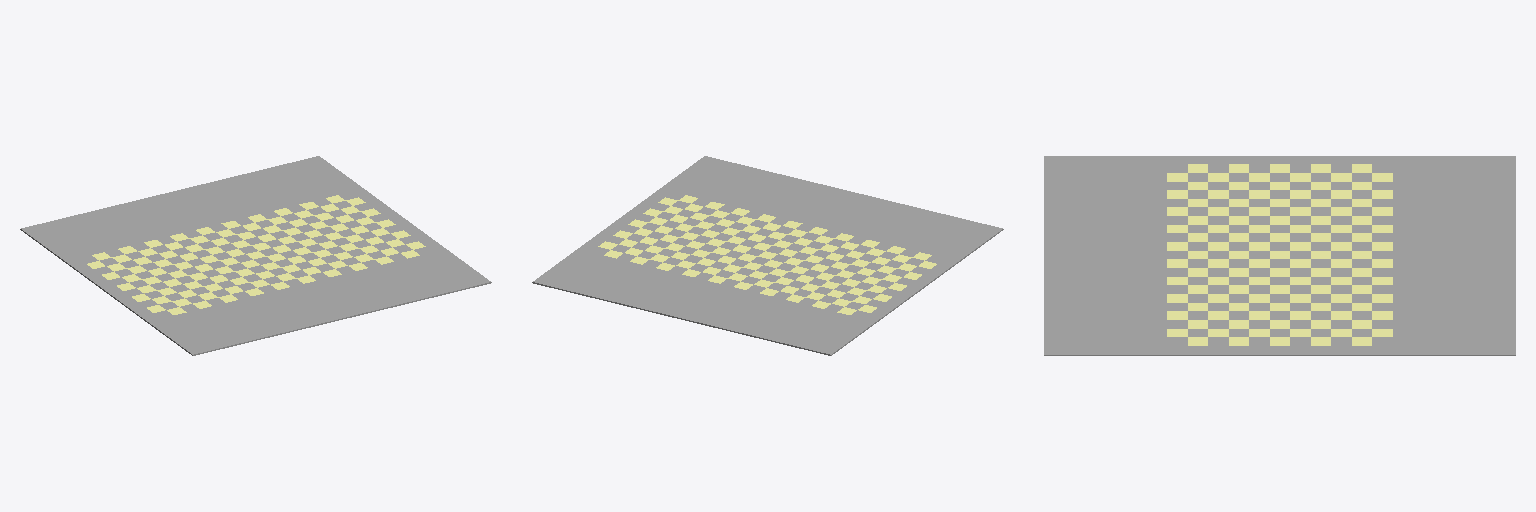
--- Facts derived from the render (not from the file) ---
3 views of the same robot in one strip: view 1: azimuth 30°, elevation 25°; view 2: azimuth 150°, elevation 25°; view 3: azimuth 270°, elevation 25° (orthographic).
Robot: ground_skeleton — 2 links, 1 joints (1 fixed); root link world; default pose: every joint at zero.
Visible links, largest first — view 1: ground_link; view 2: ground_link; view 3: ground_link.
Link boxes in pixels (<box>): ground_link: <box>20,156,491,355</box>; ground_link: <box>532,156,1003,355</box>; ground_link: <box>1044,156,1515,355</box>.
Size in the robot's own frame: 11.5 by 11.5 by 0.0501 metres.
Geometry: primitives only (box / cylinder / sphere), no mesh files.

The robot description file, URDF, robot "ground_skeleton":
<?xml version="1.0"?>
<robot name="ground_skeleton">
    <link name="world" />
    <link name="ground_link">
        <inertial>
            <mass value="1.0" />
            <origin xyz="0 0 0" rpy="1.57079632679 0 0" />
            <inertia ixx="1.0" ixy="0" ixz="0" iyy="1.0" iyz="0" izz="1.0" />
        </inertial>

        <visual>             
            <origin xyz="-5 0 0" rpy="1.57079632679 0 0" />
            <material name="red"><color rgba="0.99 0.99 0.7 1"/></material>
            <geometry>
                <box size="0.5 0.0501 0.5" />
                <color rgba="0.99 0.99 0.7 1"/> 
            </geometry>
        </visual>
        <visual>             
            <origin xyz="-4 0 0" rpy="1.57079632679 0 0" />
            <material name="red"><color rgba="0.99 0.99 0.7 1"/></material>
            <geometry>
                <box size="0.5 0.0501 0.5" />
                <color rgba="0.99 0.99 0.7 1"/> 
            </geometry>
        </visual>
        <visual>             
            <origin xyz="-3 0 0" rpy="1.57079632679 0 0" />
            <material name="red"><color rgba="0.99 0.99 0.7 1"/></material>
            <geometry>
                <box size="0.5 0.0501 0.5" />
                <color rgba="0.99 0.99 0.7 1"/> 
            </geometry>
        </visual>
        <visual>             
            <origin xyz="-2 0 0" rpy="1.57079632679 0 0" />
            <material name="red"><color rgba="0.99 0.99 0.7 1"/></material>
            <geometry>
                <box size="0.5 0.0501 0.5" />
                <color rgba="0.99 0.99 0.7 1"/> 
            </geometry>
        </visual>

        <visual>             
            <origin xyz="-1 0 0" rpy="1.57079632679 0 0" />
            <material name="red"><color rgba="0.99 0.99 0.7 1"/></material>
            <geometry>
                <box size="0.5 0.0501 0.5" />
                <color rgba="0.99 0.99 0.7 1"/> 
            </geometry>
     
        </visual>  
        <visual>             
            <origin xyz="0 0 0" rpy="1.57079632679 0 0" />
            <material name="red"><color rgba="0.99 0.99 0.7 1"/></material>
            <geometry>
                <box size="0.5 0.0501 0.5" />
                <color rgba="0.99 0.99 0.7 1"/> 
            </geometry>
     
        </visual>
        <visual>             
            <origin xyz="1 0 0" rpy="1.57079632679 0 0" />
            <material name="red"><color rgba="0.99 0.99 0.7 1"/></material>
            <geometry>
                <box size="0.5 0.0501 0.5" />
                <color rgba="0.99 0.99 0.7 1"/> 
            </geometry>
     
        </visual>
        <visual>             
            <origin xyz="2 0 0" rpy="1.57079632679 0 0" />
            <material name="red"><color rgba="0.99 0.99 0.7 1"/></material>
            <geometry>
                <box size="0.5 0.0501 0.5" />
                <color rgba="0.99 0.99 0.7 1"/> 
            </geometry>
     
        </visual>
        <visual>             
            <origin xyz="3 0 0" rpy="1.57079632679 0 0" />
            <material name="red"><color rgba="0.99 0.99 0.7 1"/></material>
            <geometry>
                <box size="0.5 0.0501 0.5" />
                <color rgba="0.99 0.99 0.7 1"/> 
            </geometry>
     
        </visual>
        <visual>             
            <origin xyz="4 0 0" rpy="1.57079632679 0 0" />
            <material name="red"><color rgba="0.99 0.99 0.7 1"/></material>
            <geometry>
                <box size="0.5 0.0501 0.5" />
                <color rgba="0.99 0.99 0.7 1"/> 
            </geometry>
     
        </visual>



        <visual>             
            <origin xyz="0.5 0.5 0" rpy="1.57079632679 0 0" />
            <material name="red"><color rgba="0.99 0.99 0.7 1"/></material>
            <geometry>
                <box size="0.5 0.0501 0.5" />
                <color rgba="0.99 0.99 0.7 1"/> 
            </geometry>
     
        </visual>
        <visual>             
            <origin xyz="1.5 0.5 0" rpy="1.57079632679 0 0" />
            <material name="red"><color rgba="0.99 0.99 0.7 1"/></material>
            <geometry>
                <box size="0.5 0.0501 0.5" />
                <color rgba="0.99 0.99 0.7 1"/> 
            </geometry>
     
        </visual>
        <visual>             
            <origin xyz="2.5 0.5 0" rpy="1.57079632679 0 0" />
            <material name="red"><color rgba="0.99 0.99 0.7 1"/></material>
            <geometry>
                <box size="0.5 0.0501 0.5" />
                <color rgba="0.99 0.99 0.7 1"/> 
            </geometry>
     
        </visual>
        <visual>             
            <origin xyz="3.5 0.5 0" rpy="1.57079632679 0 0" />
            <material name="red"><color rgba="0.99 0.99 0.7 1"/></material>
            <geometry>
                <box size="0.5 0.0501 0.5" />
                <color rgba="0.99 0.99 0.7 1"/> 
            </geometry>
        </visual>
        <visual>             
            <origin xyz="4.5 0.5 0" rpy="1.57079632679 0 0" />
            <material name="red"><color rgba="0.99 0.99 0.7 1"/></material>
            <geometry>
                <box size="0.5 0.0501 0.5" />
                <color rgba="0.99 0.99 0.7 1"/> 
            </geometry>
        </visual>








        <visual>             
            <origin xyz="0.5 -0.5 0" rpy="1.57079632679 0 0" />
            <material name="red"><color rgba="0.99 0.99 0.7 1"/></material>
            <geometry>
                <box size="0.5 0.0501 0.5" />
                <color rgba="0.99 0.99 0.7 1"/> 
            </geometry>
     
        </visual>
        <visual>             
            <origin xyz="1.5 -0.5 0" rpy="1.57079632679 0 0" />
            <material name="red"><color rgba="0.99 0.99 0.7 1"/></material>
            <geometry>
                <box size="0.5 0.0501 0.5" />
                <color rgba="0.99 0.99 0.7 1"/> 
            </geometry>
     
        </visual>
        <visual>             
            <origin xyz="2.5 -0.5 0" rpy="1.57079632679 0 0" />
            <material name="red"><color rgba="0.99 0.99 0.7 1"/></material>
            <geometry>
                <box size="0.5 0.0501 0.5" />
                <color rgba="0.99 0.99 0.7 1"/> 
            </geometry>
        </visual>   
        <visual>             
            <origin xyz="3.5 -0.5 0" rpy="1.57079632679 0 0" />
            <material name="red"><color rgba="0.99 0.99 0.7 1"/></material>
            <geometry>
                <box size="0.5 0.0501 0.5" />
                <color rgba="0.99 0.99 0.7 1"/> 
            </geometry>
        </visual>
        <visual>             
            <origin xyz="4.5 -0.5 0" rpy="1.57079632679 0 0" />
            <material name="red"><color rgba="0.99 0.99 0.7 1"/></material>
            <geometry>
                <box size="0.5 0.0501 0.5" />
                <color rgba="0.99 0.99 0.7 1"/> 
            </geometry>
        </visual>









        <visual>             
            <origin xyz="-5.5 0.5 0" rpy="1.57079632679 0 0" />
            <material name="red"><color rgba="0.99 0.99 0.7 1"/></material>
            <geometry>
                <box size="0.5 0.0501 0.5" />
                <color rgba="0.99 0.99 0.7 1"/> 
            </geometry>
        </visual>
        <visual>             
            <origin xyz="-4.5 0.5 0" rpy="1.57079632679 0 0" />
            <material name="red"><color rgba="0.99 0.99 0.7 1"/></material>
            <geometry>
                <box size="0.5 0.0501 0.5" />
                <color rgba="0.99 0.99 0.7 1"/> 
            </geometry>
        </visual>
        <visual>             
            <origin xyz="-3.5 0.5 0" rpy="1.57079632679 0 0" />
            <material name="red"><color rgba="0.99 0.99 0.7 1"/></material>
            <geometry>
                <box size="0.5 0.0501 0.5" />
                <color rgba="0.99 0.99 0.7 1"/> 
            </geometry>
        </visual>
        <visual>             
            <origin xyz="-2.5 0.5 0" rpy="1.57079632679 0 0" />
            <material name="red"><color rgba="0.99 0.99 0.7 1"/></material>
            <geometry>
                <box size="0.5 0.0501 0.5" />
                <color rgba="0.99 0.99 0.7 1"/> 
            </geometry>
        </visual>
        <visual>             
            <origin xyz="-1.5 0.5 0" rpy="1.57079632679 0 0" />
            <material name="red"><color rgba="0.99 0.99 0.7 1"/></material>
            <geometry>
                <box size="0.5 0.0501 0.5" />
                <color rgba="0.99 0.99 0.7 1"/> 
            </geometry>
        </visual>

        <visual>             
            <origin xyz="-0.5 0.5 0" rpy="1.57079632679 0 0" />
            <material name="red"><color rgba="0.99 0.99 0.7 1"/></material>
            <geometry>
                <box size="0.5 0.0501 0.5" />
                <color rgba="0.99 0.99 0.7 1"/> 
            </geometry>
     
        </visual> 














         <visual>
           <origin xyz="-5.5 -0.5 0" rpy="1.57079632679 0 0" />
            <material name="red"><color rgba="0.99 0.99 0.7 1"/></material>
            <geometry>
                <box size="0.5 0.0501 0.5" />
                <color rgba="0.99 0.99 0.7 1"/> 
            </geometry>
        </visual>
         <visual>
           <origin xyz="-4.5 -0.5 0" rpy="1.57079632679 0 0" />
            <material name="red"><color rgba="0.99 0.99 0.7 1"/></material>
            <geometry>
                <box size="0.5 0.0501 0.5" />
                <color rgba="0.99 0.99 0.7 1"/> 
            </geometry>
        </visual>
        <visual>             
            <origin xyz="-3.5 -0.5 0" rpy="1.57079632679 0 0" />
            <material name="red"><color rgba="0.99 0.99 0.7 1"/></material>
            <geometry>
                <box size="0.5 0.0501 0.5" />
                <color rgba="0.99 0.99 0.7 1"/> 
            </geometry>
        </visual>
        <visual>             
            <origin xyz="-2.5 -0.5 0" rpy="1.57079632679 0 0" />
            <material name="red"><color rgba="0.99 0.99 0.7 1"/></material>
            <geometry>
                <box size="0.5 0.0501 0.5" />
                <color rgba="0.99 0.99 0.7 1"/> 
            </geometry>
        </visual>
        <visual>             
            <origin xyz="-1.5 -0.5 0" rpy="1.57079632679 0 0" />
            <material name="red"><color rgba="0.99 0.99 0.7 1"/></material>
            <geometry>
                <box size="0.5 0.0501 0.5" />
                <color rgba="0.99 0.99 0.7 1"/> 
            </geometry>
        </visual>

        <visual>             
            <origin xyz="-0.5 -0.5 0" rpy="1.57079632679 0 0" />
            <material name="red"><color rgba="0.99 0.99 0.7 1"/></material>
            <geometry>
                <box size="0.5 0.0501 0.5" />
                <color rgba="0.99 0.99 0.7 1"/> 
            </geometry>
     
        </visual> 











       <visual>             
            <origin xyz="-5 1.0 0" rpy="1.57079632679 0 0" />
            <material name="red"><color rgba="0.99 0.99 0.7 1"/></material>
            <geometry>
                <box size="0.5 0.0501 0.5" />
                <color rgba="0.99 0.99 0.7 1"/> 
            </geometry>
        </visual>
        <visual>             
            <origin xyz="-4 1 0" rpy="1.57079632679 0 0" />
            <material name="red"><color rgba="0.99 0.99 0.7 1"/></material>
            <geometry>
                <box size="0.5 0.0501 0.5" />
                <color rgba="0.99 0.99 0.7 1"/> 
            </geometry>
        </visual>
        <visual>             
            <origin xyz="-3 1 0" rpy="1.57079632679 0 0" />
            <material name="red"><color rgba="0.99 0.99 0.7 1"/></material>
            <geometry>
                <box size="0.5 0.0501 0.5" />
                <color rgba="0.99 0.99 0.7 1"/> 
            </geometry>
        </visual>
        <visual>             
            <origin xyz="-2 1 0" rpy="1.57079632679 0 0" />
            <material name="red"><color rgba="0.99 0.99 0.7 1"/></material>
            <geometry>
                <box size="0.5 0.0501 0.5" />
                <color rgba="0.99 0.99 0.7 1"/> 
            </geometry>
        </visual>

        <visual>             
            <origin xyz="-1 1 0" rpy="1.57079632679 0 0" />
            <material name="red"><color rgba="0.99 0.99 0.7 1"/></material>
            <geometry>
                <box size="0.5 0.0501 0.5" />
                <color rgba="0.99 0.99 0.7 1"/> 
            </geometry>
     
        </visual>  
        <visual>             
            <origin xyz="0 1 0" rpy="1.57079632679 0 0" />
            <material name="red"><color rgba="0.99 0.99 0.7 1"/></material>
            <geometry>
                <box size="0.5 0.0501 0.5" />
                <color rgba="0.99 0.99 0.7 1"/> 
            </geometry>
     
        </visual>
        <visual>             
            <origin xyz="1 1 0" rpy="1.57079632679 0 0" />
            <material name="red"><color rgba="0.99 0.99 0.7 1"/></material>
            <geometry>
                <box size="0.5 0.0501 0.5" />
                <color rgba="0.99 0.99 0.7 1"/> 
            </geometry>
     
        </visual>
        <visual>             
            <origin xyz="2 1 0" rpy="1.57079632679 0 0" />
            <material name="red"><color rgba="0.99 0.99 0.7 1"/></material>
            <geometry>
                <box size="0.5 0.0501 0.5" />
                <color rgba="0.99 0.99 0.7 1"/> 
            </geometry>
     
        </visual>
        <visual>             
            <origin xyz="3 1 0" rpy="1.57079632679 0 0" />
            <material name="red"><color rgba="0.99 0.99 0.7 1"/></material>
            <geometry>
                <box size="0.5 0.0501 0.5" />
                <color rgba="0.99 0.99 0.7 1"/> 
            </geometry>
     
        </visual>
        <visual>             
            <origin xyz="4 1 0" rpy="1.57079632679 0 0" />
            <material name="red"><color rgba="0.99 0.99 0.7 1"/></material>
            <geometry>
                <box size="0.5 0.0501 0.5" />
                <color rgba="0.99 0.99 0.7 1"/> 
            </geometry>
     
        </visual>













       <visual>             
            <origin xyz="-5.5 1.5 0" rpy="1.57079632679 0 0" />
            <material name="red"><color rgba="0.99 0.99 0.7 1"/></material>
            <geometry>
                <box size="0.5 0.0501 0.5" />
                <color rgba="0.99 0.99 0.7 1"/> 
            </geometry>
        </visual>
        <visual>             
            <origin xyz="-4.5 1.5 0" rpy="1.57079632679 0 0" />
            <material name="red"><color rgba="0.99 0.99 0.7 1"/></material>
            <geometry>
                <box size="0.5 0.0501 0.5" />
                <color rgba="0.99 0.99 0.7 1"/> 
            </geometry>
        </visual>
        <visual>             
            <origin xyz="-3.5 1.5 0" rpy="1.57079632679 0 0" />
            <material name="red"><color rgba="0.99 0.99 0.7 1"/></material>
            <geometry>
                <box size="0.5 0.0501 0.5" />
                <color rgba="0.99 0.99 0.7 1"/> 
            </geometry>
        </visual>
        <visual>             
            <origin xyz="-2.5 1.5 0" rpy="1.57079632679 0 0" />
            <material name="red"><color rgba="0.99 0.99 0.7 1"/></material>
            <geometry>
                <box size="0.5 0.0501 0.5" />
                <color rgba="0.99 0.99 0.7 1"/> 
            </geometry>
        </visual>

        <visual>             
            <origin xyz="-1.5 1.5 0" rpy="1.57079632679 0 0" />
            <material name="red"><color rgba="0.99 0.99 0.7 1"/></material>
            <geometry>
                <box size="0.5 0.0501 0.5" />
                <color rgba="0.99 0.99 0.7 1"/> 
            </geometry>
     
        </visual> 
        <visual>             
            <origin xyz="-0.5 1.5 0" rpy="1.57079632679 0 0" />
            <material name="red"><color rgba="0.99 0.99 0.7 1"/></material>
            <geometry>
                <box size="0.5 0.0501 0.5" />
                <color rgba="0.99 0.99 0.7 1"/> 
            </geometry>
     
        </visual> 
        <visual>             
            <origin xyz="0.5 1.5 0" rpy="1.57079632679 0 0" />
            <material name="red"><color rgba="0.99 0.99 0.7 1"/></material>
            <geometry>
                <box size="0.5 0.0501 0.5" />
                <color rgba="0.99 0.99 0.7 1"/> 
            </geometry>
     
        </visual>
        <visual>             
            <origin xyz="1.5 1.5 0" rpy="1.57079632679 0 0" />
            <material name="red"><color rgba="0.99 0.99 0.7 1"/></material>
            <geometry>
                <box size="0.5 0.0501 0.5" />
                <color rgba="0.99 0.99 0.7 1"/> 
            </geometry>
     
        </visual>
        <visual>             
            <origin xyz="2.5 1.5 0" rpy="1.57079632679 0 0" />
            <material name="red"><color rgba="0.99 0.99 0.7 1"/></material>
            <geometry>
                <box size="0.5 0.0501 0.5" />
                <color rgba="0.99 0.99 0.7 1"/> 
            </geometry>
     
        </visual>
        <visual>             
            <origin xyz="3.5 1.5 0" rpy="1.57079632679 0 0" />
            <material name="red"><color rgba="0.99 0.99 0.7 1"/></material>
            <geometry>
                <box size="0.5 0.0501 0.5" />
                <color rgba="0.99 0.99 0.7 1"/> 
            </geometry>
     
        </visual>
        <visual>             
            <origin xyz="4.5 1.5 0" rpy="1.57079632679 0 0" />
            <material name="red"><color rgba="0.99 0.99 0.7 1"/></material>
            <geometry>
                <box size="0.5 0.0501 0.5" />
                <color rgba="0.99 0.99 0.7 1"/> 
            </geometry>
     
        </visual>

















       <visual>             
            <origin xyz="-5 -1.0 0" rpy="1.57079632679 0 0" />
            <material name="red"><color rgba="0.99 0.99 0.7 1"/></material>
            <geometry>
                <box size="0.5 0.0501 0.5" />
                <color rgba="0.99 0.99 0.7 1"/> 
            </geometry>
        </visual>
        <visual>             
            <origin xyz="-4 -1 0" rpy="1.57079632679 0 0" />
            <material name="red"><color rgba="0.99 0.99 0.7 1"/></material>
            <geometry>
                <box size="0.5 0.0501 0.5" />
                <color rgba="0.99 0.99 0.7 1"/> 
            </geometry>
        </visual>
        <visual>             
            <origin xyz="-3 -1 0" rpy="1.57079632679 0 0" />
            <material name="red"><color rgba="0.99 0.99 0.7 1"/></material>
            <geometry>
                <box size="0.5 0.0501 0.5" />
                <color rgba="0.99 0.99 0.7 1"/> 
            </geometry>
        </visual>
        <visual>             
            <origin xyz="-2 -1 0" rpy="1.57079632679 0 0" />
            <material name="red"><color rgba="0.99 0.99 0.7 1"/></material>
            <geometry>
                <box size="0.5 0.0501 0.5" />
                <color rgba="0.99 0.99 0.7 1"/> 
            </geometry>
        </visual>

        <visual>             
            <origin xyz="-1 -1 0" rpy="1.57079632679 0 0" />
            <material name="red"><color rgba="0.99 0.99 0.7 1"/></material>
            <geometry>
                <box size="0.5 0.0501 0.5" />
                <color rgba="0.99 0.99 0.7 1"/> 
            </geometry>
     
        </visual>  
        <visual>             
            <origin xyz="0 -1 0" rpy="1.57079632679 0 0" />
            <material name="red"><color rgba="0.99 0.99 0.7 1"/></material>
            <geometry>
                <box size="0.5 0.0501 0.5" />
                <color rgba="0.99 0.99 0.7 1"/> 
            </geometry>
     
        </visual>
        <visual>             
            <origin xyz="1 -1 0" rpy="1.57079632679 0 0" />
            <material name="red"><color rgba="0.99 0.99 0.7 1"/></material>
            <geometry>
                <box size="0.5 0.0501 0.5" />
                <color rgba="0.99 0.99 0.7 1"/> 
            </geometry>
     
        </visual>
        <visual>             
            <origin xyz="2 -1 0" rpy="1.57079632679 0 0" />
            <material name="red"><color rgba="0.99 0.99 0.7 1"/></material>
            <geometry>
                <box size="0.5 0.0501 0.5" />
                <color rgba="0.99 0.99 0.7 1"/> 
            </geometry>
     
        </visual>
        <visual>             
            <origin xyz="3 -1 0" rpy="1.57079632679 0 0" />
            <material name="red"><color rgba="0.99 0.99 0.7 1"/></material>
            <geometry>
                <box size="0.5 0.0501 0.5" />
                <color rgba="0.99 0.99 0.7 1"/> 
            </geometry>
     
        </visual>
        <visual>             
            <origin xyz="4 -1 0" rpy="1.57079632679 0 0" />
            <material name="red"><color rgba="0.99 0.99 0.7 1"/></material>
            <geometry>
                <box size="0.5 0.0501 0.5" />
                <color rgba="0.99 0.99 0.7 1"/> 
            </geometry>
     
        </visual>













       <visual>             
            <origin xyz="-5.5 -1.5 0" rpy="1.57079632679 0 0" />
            <material name="red"><color rgba="0.99 0.99 0.7 1"/></material>
            <geometry>
                <box size="0.5 0.0501 0.5" />
                <color rgba="0.99 0.99 0.7 1"/> 
            </geometry>
        </visual>
        <visual>             
            <origin xyz="-4.5 -1.5 0" rpy="1.57079632679 0 0" />
            <material name="red"><color rgba="0.99 0.99 0.7 1"/></material>
            <geometry>
                <box size="0.5 0.0501 0.5" />
                <color rgba="0.99 0.99 0.7 1"/> 
            </geometry>
        </visual>
        <visual>             
            <origin xyz="-3.5 -1.5 0" rpy="1.57079632679 0 0" />
            <material name="red"><color rgba="0.99 0.99 0.7 1"/></material>
            <geometry>
                <box size="0.5 0.0501 0.5" />
                <color rgba="0.99 0.99 0.7 1"/> 
            </geometry>
        </visual>
        <visual>             
            <origin xyz="-2.5 -1.5 0" rpy="1.57079632679 0 0" />
            <material name="red"><color rgba="0.99 0.99 0.7 1"/></material>
            <geometry>
                <box size="0.5 0.0501 0.5" />
                <color rgba="0.99 0.99 0.7 1"/> 
            </geometry>
        </visual>

        <visual>             
            <origin xyz="-1.5 -1.5 0" rpy="1.57079632679 0 0" />
            <material name="red"><color rgba="0.99 0.99 0.7 1"/></material>
            <geometry>
                <box size="0.5 0.0501 0.5" />
                <color rgba="0.99 0.99 0.7 1"/> 
            </geometry>
     
        </visual> 
        <visual>             
            <origin xyz="-0.5 -1.5 0" rpy="1.57079632679 0 0" />
            <material name="red"><color rgba="0.99 0.99 0.7 1"/></material>
            <geometry>
                <box size="0.5 0.0501 0.5" />
                <color rgba="0.99 0.99 0.7 1"/> 
            </geometry>
     
        </visual> 
        <visual>             
            <origin xyz="0.5 -1.5 0" rpy="1.57079632679 0 0" />
            <material name="red"><color rgba="0.99 0.99 0.7 1"/></material>
            <geometry>
                <box size="0.5 0.0501 0.5" />
                <color rgba="0.99 0.99 0.7 1"/> 
            </geometry>
        </visual>
        <visual>             
            <origin xyz="1.5 -1.5 0" rpy="1.57079632679 0 0" />
            <material name="red"><color rgba="0.99 0.99 0.7 1"/></material>
            <geometry>
                <box size="0.5 0.0501 0.5" />
                <color rgba="0.99 0.99 0.7 1"/> 
            </geometry>
     
        </visual>
        <visual>             
            <origin xyz="2.5 -1.5 0" rpy="1.57079632679 0 0" />
            <material name="red"><color rgba="0.99 0.99 0.7 1"/></material>
            <geometry>
                <box size="0.5 0.0501 0.5" />
                <color rgba="0.99 0.99 0.7 1"/> 
            </geometry>
     
        </visual>
        <visual>             
            <origin xyz="3.5 -1.5 0" rpy="1.57079632679 0 0" />
            <material name="red"><color rgba="0.99 0.99 0.7 1"/></material>
            <geometry>
                <box size="0.5 0.0501 0.5" />
                <color rgba="0.99 0.99 0.7 1"/> 
            </geometry>
     
        </visual>
        <visual>             
            <origin xyz="4.5 -1.5 0" rpy="1.57079632679 0 0" />
            <material name="red"><color rgba="0.99 0.99 0.7 1"/></material>
            <geometry>
                <box size="0.5 0.0501 0.5" />
                <color rgba="0.99 0.99 0.7 1"/> 
            </geometry>
     
        </visual>














       <visual>             
            <origin xyz="-5 -2.0 0" rpy="1.57079632679 0 0" />
            <material name="red"><color rgba="0.99 0.99 0.7 1"/></material>
            <geometry>
                <box size="0.5 0.0501 0.5" />
                <color rgba="0.99 0.99 0.7 1"/> 
            </geometry>
        </visual>
        <visual>             
            <origin xyz="-4 -2 0" rpy="1.57079632679 0 0" />
            <material name="red"><color rgba="0.99 0.99 0.7 1"/></material>
            <geometry>
                <box size="0.5 0.0501 0.5" />
                <color rgba="0.99 0.99 0.7 1"/> 
            </geometry>
        </visual>
        <visual>             
            <origin xyz="-3 -2 0" rpy="1.57079632679 0 0" />
            <material name="red"><color rgba="0.99 0.99 0.7 1"/></material>
            <geometry>
                <box size="0.5 0.0501 0.5" />
                <color rgba="0.99 0.99 0.7 1"/> 
            </geometry>
        </visual>
        <visual>             
            <origin xyz="-2 -2 0" rpy="1.57079632679 0 0" />
            <material name="red"><color rgba="0.99 0.99 0.7 1"/></material>
            <geometry>
                <box size="0.5 0.0501 0.5" />
                <color rgba="0.99 0.99 0.7 1"/> 
            </geometry>
        </visual>

        <visual>             
            <origin xyz="-1 -2 0" rpy="1.57079632679 0 0" />
            <material name="red"><color rgba="0.99 0.99 0.7 1"/></material>
            <geometry>
                <box size="0.5 0.0501 0.5" />
                <color rgba="0.99 0.99 0.7 1"/> 
            </geometry>
     
        </visual>  
        <visual>             
            <origin xyz="0 -2 0" rpy="1.57079632679 0 0" />
            <material name="red"><color rgba="0.99 0.99 0.7 1"/></material>
            <geometry>
                <box size="0.5 0.0501 0.5" />
                <color rgba="0.99 0.99 0.7 1"/> 
            </geometry>
     
        </visual>
        <visual>             
            <origin xyz="1 -2 0" rpy="1.57079632679 0 0" />
            <material name="red"><color rgba="0.99 0.99 0.7 1"/></material>
            <geometry>
                <box size="0.5 0.0501 0.5" />
                <color rgba="0.99 0.99 0.7 1"/> 
            </geometry>
     
        </visual>
        <visual>             
            <origin xyz="2 -2 0" rpy="1.57079632679 0 0" />
            <material name="red"><color rgba="0.99 0.99 0.7 1"/></material>
            <geometry>
                <box size="0.5 0.0501 0.5" />
                <color rgba="0.99 0.99 0.7 1"/> 
            </geometry>
     
        </visual>
        <visual>             
            <origin xyz="3 -2 0" rpy="1.57079632679 0 0" />
            <material name="red"><color rgba="0.99 0.99 0.7 1"/></material>
            <geometry>
                <box size="0.5 0.0501 0.5" />
                <color rgba="0.99 0.99 0.7 1"/> 
            </geometry>
     
        </visual>
        <visual>             
            <origin xyz="4 -2 0" rpy="1.57079632679 0 0" />
            <material name="red"><color rgba="0.99 0.99 0.7 1"/></material>
            <geometry>
                <box size="0.5 0.0501 0.5" />
                <color rgba="0.99 0.99 0.7 1"/> 
            </geometry>
     
        </visual>













       <visual>             
            <origin xyz="-5.5 -2.5 0" rpy="1.57079632679 0 0" />
            <material name="red"><color rgba="0.99 0.99 0.7 1"/></material>
            <geometry>
                <box size="0.5 0.0501 0.5" />
                <color rgba="0.99 0.99 0.7 1"/> 
            </geometry>
        </visual>
        <visual>             
            <origin xyz="-4.5 -2.5 0" rpy="1.57079632679 0 0" />
            <material name="red"><color rgba="0.99 0.99 0.7 1"/></material>
            <geometry>
                <box size="0.5 0.0501 0.5" />
                <color rgba="0.99 0.99 0.7 1"/> 
            </geometry>
        </visual>
        <visual>             
            <origin xyz="-3.5 -2.5 0" rpy="1.57079632679 0 0" />
            <material name="red"><color rgba="0.99 0.99 0.7 1"/></material>
            <geometry>
                <box size="0.5 0.0501 0.5" />
                <color rgba="0.99 0.99 0.7 1"/> 
            </geometry>
        </visual>
        <visual>             
            <origin xyz="-2.5 -2.5 0" rpy="1.57079632679 0 0" />
            <material name="red"><color rgba="0.99 0.99 0.7 1"/></material>
            <geometry>
                <box size="0.5 0.0501 0.5" />
                <color rgba="0.99 0.99 0.7 1"/> 
            </geometry>
        </visual>

        <visual>             
            <origin xyz="-1.5 -2.5 0" rpy="1.57079632679 0 0" />
            <material name="red"><color rgba="0.99 0.99 0.7 1"/></material>
            <geometry>
                <box size="0.5 0.0501 0.5" />
                <color rgba="0.99 0.99 0.7 1"/> 
            </geometry>
     
        </visual> 
        <visual>             
            <origin xyz="-0.5 -2.5 0" rpy="1.57079632679 0 0" />
            <material name="red"><color rgba="0.99 0.99 0.7 1"/></material>
            <geometry>
                <box size="0.5 0.0501 0.5" />
                <color rgba="0.99 0.99 0.7 1"/> 
            </geometry>
     
        </visual> 
        <visual>             
            <origin xyz="0.5 -2.5 0" rpy="1.57079632679 0 0" />
            <material name="red"><color rgba="0.99 0.99 0.7 1"/></material>
            <geometry>
                <box size="0.5 0.0501 0.5" />
                <color rgba="0.99 0.99 0.7 1"/> 
            </geometry>
        </visual>
        <visual>             
            <origin xyz="1.5 -2.5 0" rpy="1.57079632679 0 0" />
            <material name="red"><color rgba="0.99 0.99 0.7 1"/></material>
            <geometry>
                <box size="0.5 0.0501 0.5" />
                <color rgba="0.99 0.99 0.7 1"/> 
            </geometry>
     
        </visual>
        <visual>             
            <origin xyz="2.5 -2.5 0" rpy="1.57079632679 0 0" />
            <material name="red"><color rgba="0.99 0.99 0.7 1"/></material>
            <geometry>
                <box size="0.5 0.0501 0.5" />
                <color rgba="0.99 0.99 0.7 1"/> 
            </geometry>
     
        </visual>
        <visual>             
            <origin xyz="3.5 -2.5 0" rpy="1.57079632679 0 0" />
            <material name="red"><color rgba="0.99 0.99 0.7 1"/></material>
            <geometry>
                <box size="0.5 0.0501 0.5" />
                <color rgba="0.99 0.99 0.7 1"/> 
            </geometry>
     
        </visual>
        <visual>             
            <origin xyz="4.5 -2.5 0" rpy="1.57079632679 0 0" />
            <material name="red"><color rgba="0.99 0.99 0.7 1"/></material>
            <geometry>
                <box size="0.5 0.0501 0.5" />
                <color rgba="0.99 0.99 0.7 1"/> 
            </geometry>
     
        </visual>













       <visual>             
            <origin xyz="-5 -3.0 0" rpy="1.57079632679 0 0" />
            <material name="red"><color rgba="0.99 0.99 0.7 1"/></material>
            <geometry>
                <box size="0.5 0.0501 0.5" />
                <color rgba="0.99 0.99 0.7 1"/> 
            </geometry>
        </visual>
        <visual>             
            <origin xyz="-4 -3 0" rpy="1.57079632679 0 0" />
            <material name="red"><color rgba="0.99 0.99 0.7 1"/></material>
            <geometry>
                <box size="0.5 0.0501 0.5" />
                <color rgba="0.99 0.99 0.7 1"/> 
            </geometry>
        </visual>
        <visual>             
            <origin xyz="-3 -3 0" rpy="1.57079632679 0 0" />
            <material name="red"><color rgba="0.99 0.99 0.7 1"/></material>
            <geometry>
                <box size="0.5 0.0501 0.5" />
                <color rgba="0.99 0.99 0.7 1"/> 
            </geometry>
        </visual>
        <visual>             
            <origin xyz="-2 -3 0" rpy="1.57079632679 0 0" />
            <material name="red"><color rgba="0.99 0.99 0.7 1"/></material>
            <geometry>
                <box size="0.5 0.0501 0.5" />
                <color rgba="0.99 0.99 0.7 1"/> 
            </geometry>
        </visual>

        <visual>             
            <origin xyz="-1 -3 0" rpy="1.57079632679 0 0" />
            <material name="red"><color rgba="0.99 0.99 0.7 1"/></material>
            <geometry>
                <box size="0.5 0.0501 0.5" />
                <color rgba="0.99 0.99 0.7 1"/> 
            </geometry>
     
        </visual>  
        <visual>             
            <origin xyz="0 -3 0" rpy="1.57079632679 0 0" />
            <material name="red"><color rgba="0.99 0.99 0.7 1"/></material>
            <geometry>
                <box size="0.5 0.0501 0.5" />
                <color rgba="0.99 0.99 0.7 1"/> 
            </geometry>
     
        </visual>
        <visual>             
            <origin xyz="1 -3 0" rpy="1.57079632679 0 0" />
            <material name="red"><color rgba="0.99 0.99 0.7 1"/></material>
            <geometry>
                <box size="0.5 0.0501 0.5" />
                <color rgba="0.99 0.99 0.7 1"/> 
            </geometry>
     
        </visual>
        <visual>             
            <origin xyz="2 -3 0" rpy="1.57079632679 0 0" />
            <material name="red"><color rgba="0.99 0.99 0.7 1"/></material>
            <geometry>
                <box size="0.5 0.0501 0.5" />
                <color rgba="0.99 0.99 0.7 1"/> 
            </geometry>
     
        </visual>
        <visual>             
            <origin xyz="3 -3 0" rpy="1.57079632679 0 0" />
            <material name="red"><color rgba="0.99 0.99 0.7 1"/></material>
            <geometry>
                <box size="0.5 0.0501 0.5" />
                <color rgba="0.99 0.99 0.7 1"/> 
            </geometry>
     
        </visual>
        <visual>             
            <origin xyz="4 -3 0" rpy="1.57079632679 0 0" />
            <material name="red"><color rgba="0.99 0.99 0.7 1"/></material>
            <geometry>
                <box size="0.5 0.0501 0.5" />
                <color rgba="0.99 0.99 0.7 1"/> 
            </geometry>
     
        </visual>








       <visual>             
            <origin xyz="-5 2.0 0" rpy="1.57079632679 0 0" />
            <material name="red"><color rgba="0.99 0.99 0.7 1"/></material>
            <geometry>
                <box size="0.5 0.0501 0.5" />
                <color rgba="0.99 0.99 0.7 1"/> 
            </geometry>
        </visual>
        <visual>             
            <origin xyz="-4 2 0" rpy="1.57079632679 0 0" />
            <material name="red"><color rgba="0.99 0.99 0.7 1"/></material>
            <geometry>
                <box size="0.5 0.0501 0.5" />
                <color rgba="0.99 0.99 0.7 1"/> 
            </geometry>
        </visual>
        <visual>             
            <origin xyz="-3 2 0" rpy="1.57079632679 0 0" />
            <material name="red"><color rgba="0.99 0.99 0.7 1"/></material>
            <geometry>
                <box size="0.5 0.0501 0.5" />
                <color rgba="0.99 0.99 0.7 1"/> 
            </geometry>
        </visual>
        <visual>             
            <origin xyz="-2 2 0" rpy="1.57079632679 0 0" />
            <material name="red"><color rgba="0.99 0.99 0.7 1"/></material>
            <geometry>
                <box size="0.5 0.0501 0.5" />
                <color rgba="0.99 0.99 0.7 1"/> 
            </geometry>
        </visual>

        <visual>             
            <origin xyz="-1 2 0" rpy="1.57079632679 0 0" />
            <material name="red"><color rgba="0.99 0.99 0.7 1"/></material>
            <geometry>
                <box size="0.5 0.0501 0.5" />
                <color rgba="0.99 0.99 0.7 1"/> 
            </geometry>
     
        </visual>  
        <visual>             
            <origin xyz="0 2 0" rpy="1.57079632679 0 0" />
            <material name="red"><color rgba="0.99 0.99 0.7 1"/></material>
            <geometry>
                <box size="0.5 0.0501 0.5" />
                <color rgba="0.99 0.99 0.7 1"/> 
            </geometry>
     
        </visual>
        <visual>             
            <origin xyz="1 2 0" rpy="1.57079632679 0 0" />
            <material name="red"><color rgba="0.99 0.99 0.7 1"/></material>
            <geometry>
                <box size="0.5 0.0501 0.5" />
                <color rgba="0.99 0.99 0.7 1"/> 
            </geometry>
     
        </visual>
        <visual>             
            <origin xyz="2 2 0" rpy="1.57079632679 0 0" />
            <material name="red"><color rgba="0.99 0.99 0.7 1"/></material>
            <geometry>
                <box size="0.5 0.0501 0.5" />
                <color rgba="0.99 0.99 0.7 1"/> 
            </geometry>
     
        </visual>
        <visual>             
            <origin xyz="3 2 0" rpy="1.57079632679 0 0" />
            <material name="red"><color rgba="0.99 0.99 0.7 1"/></material>
            <geometry>
                <box size="0.5 0.0501 0.5" />
                <color rgba="0.99 0.99 0.7 1"/> 
            </geometry>
     
        </visual>
        <visual>             
            <origin xyz="4 2 0" rpy="1.57079632679 0 0" />
            <material name="red"><color rgba="0.99 0.99 0.7 1"/></material>
            <geometry>
                <box size="0.5 0.0501 0.5" />
                <color rgba="0.99 0.99 0.7 1"/> 
            </geometry>
     
        </visual>



















        <visual>             
            <origin xyz="-0.5 -0.5 0" rpy="1.57079632679 0 0" />
            <material name="green"><color rgba="0.7 0.7 0.7 1"/></material>
            <geometry>
                <box size="11.5 0.05005 11.5" />
                <color rgba="0.99 0.99 0.7 1"/> 
            </geometry>
     
        </visual> 


  

        <collision>
            <origin xyz="0 0 0" rpy="1.57079632679 0 0" />
            <geometry>
                <box size="11.5 0.05 11.5" />
            </geometry>
        </collision>
    </link>
    <joint name="ground_joint" type="fixed">
        <origin xyz="0 0 -0.025" rpy="0 0 0" />
        <parent link="world" />
        <child link="ground_link" />
    </joint>
</robot>
